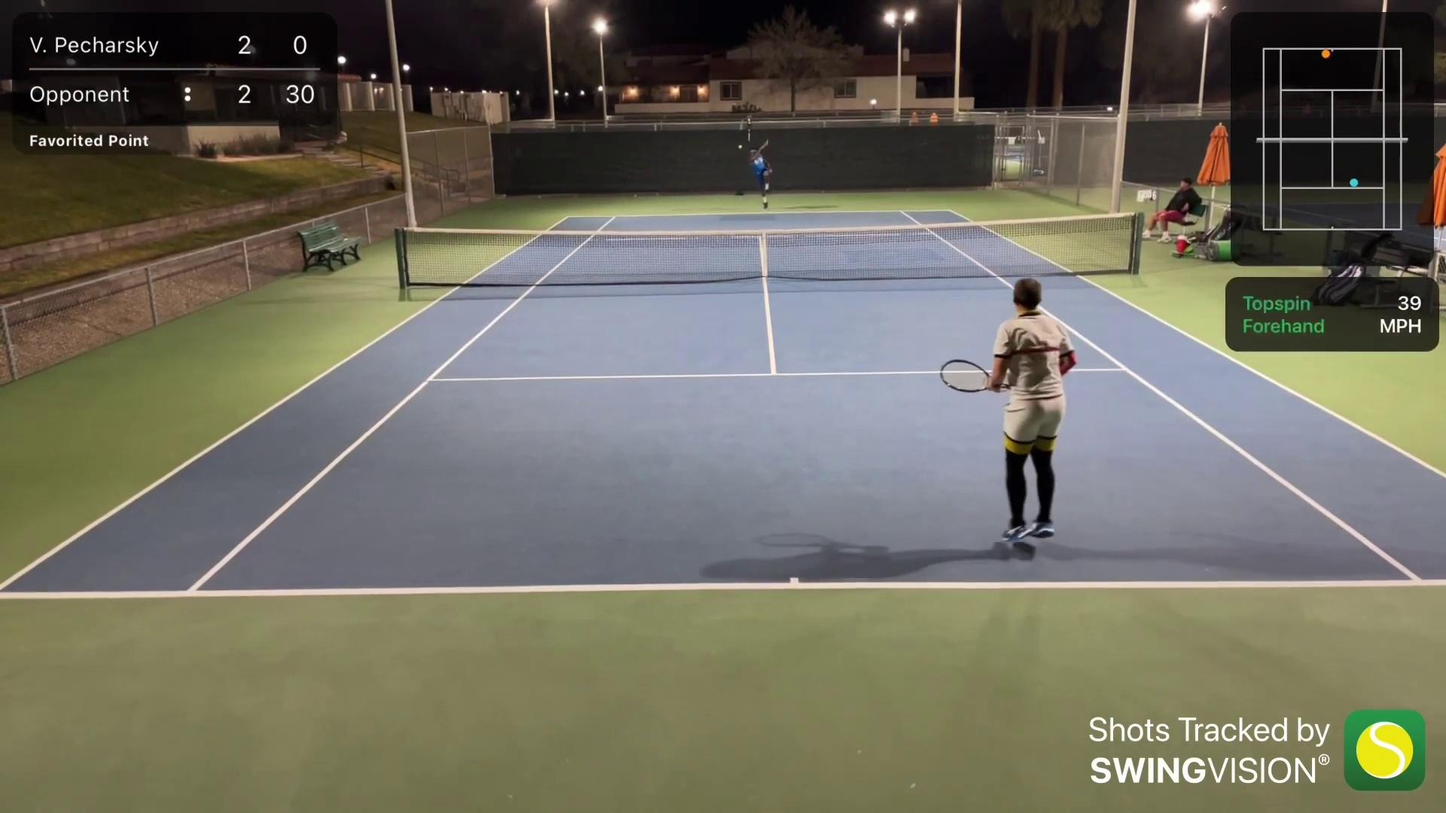ball: (736, 142, 744, 150)
